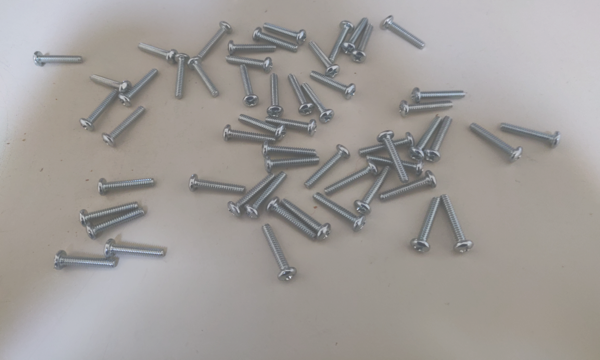longscrew: (440, 194, 479, 255), (313, 191, 361, 238), (78, 88, 122, 137), (270, 202, 320, 244), (470, 122, 522, 162), (247, 174, 293, 219), (264, 222, 296, 285), (228, 175, 277, 216), (303, 144, 348, 188), (106, 102, 149, 148), (372, 131, 409, 184), (498, 118, 561, 149), (87, 207, 147, 239), (382, 168, 437, 202), (325, 162, 381, 195), (284, 196, 328, 237), (412, 199, 444, 255), (355, 168, 392, 215), (119, 68, 160, 107), (357, 128, 414, 156), (378, 17, 427, 49), (95, 174, 159, 198), (77, 203, 141, 227), (104, 239, 168, 263), (51, 251, 115, 275), (410, 115, 444, 159), (189, 171, 249, 195), (303, 80, 336, 123), (285, 73, 318, 116), (427, 116, 455, 165), (310, 70, 356, 99), (310, 32, 338, 79), (363, 154, 425, 175), (201, 20, 236, 57), (190, 54, 219, 96), (240, 114, 285, 139), (221, 127, 277, 147), (351, 21, 376, 65), (342, 12, 367, 56), (328, 17, 353, 60), (229, 49, 272, 73), (268, 115, 317, 136), (413, 83, 467, 102), (265, 73, 288, 117), (234, 63, 257, 107), (255, 28, 297, 52), (262, 20, 305, 43), (265, 154, 322, 171), (229, 33, 271, 56), (398, 98, 451, 115), (34, 49, 84, 66), (134, 43, 178, 62), (259, 144, 319, 157), (83, 76, 134, 88), (176, 55, 183, 104)
